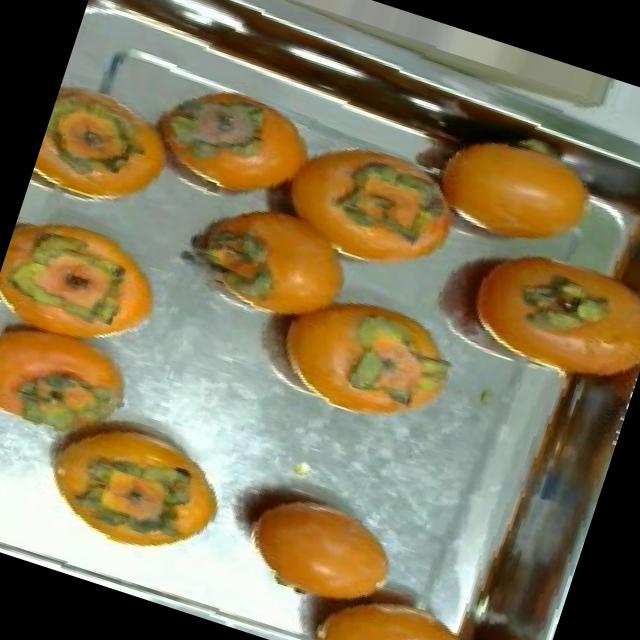Fruit: (159, 164, 387, 354), (210, 455, 426, 636), (400, 111, 621, 278), (48, 396, 250, 570), (120, 61, 329, 229), (0, 190, 185, 364), (28, 64, 198, 235)
